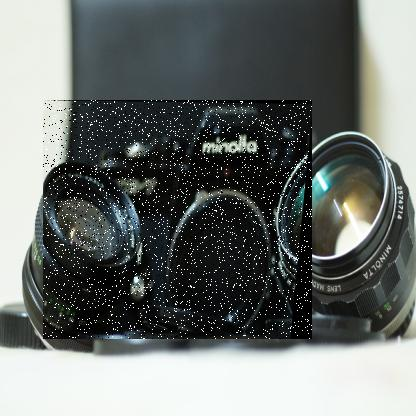Camera: (44, 101, 314, 341)
